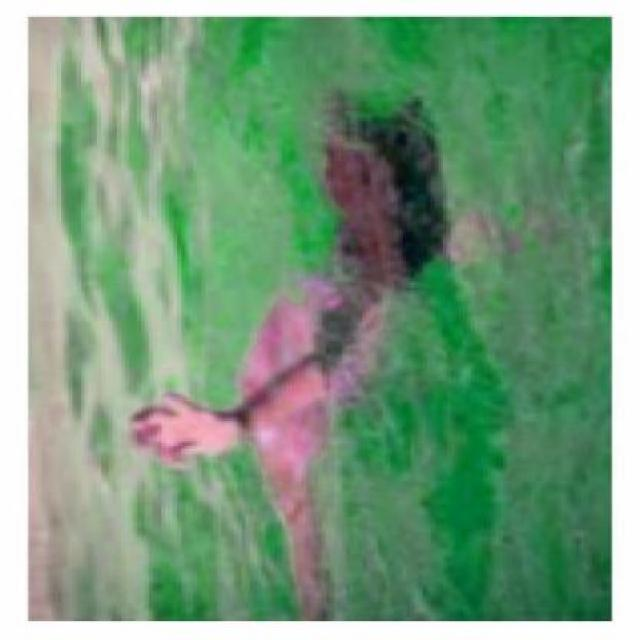drowning: (129, 117, 443, 500)
